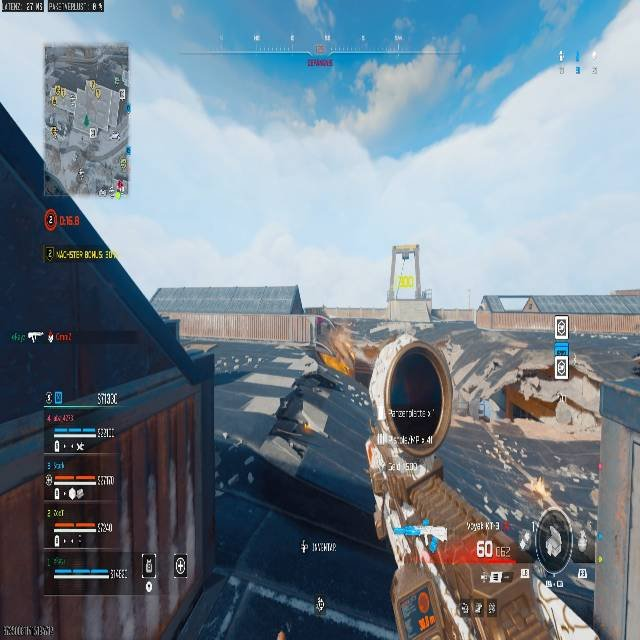head: (382, 344, 447, 449)
player: (363, 338, 607, 639)
